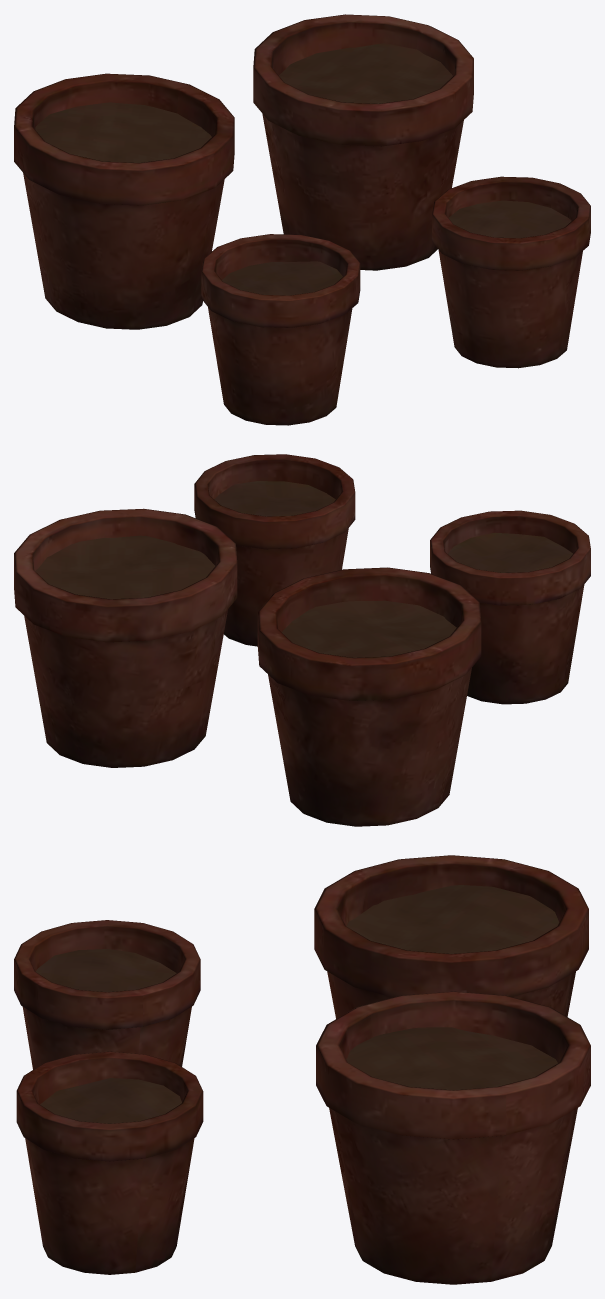
The model's file is t_macetas.glb.
3 renders of one model, top to bottom at view 1: azimuth 30°, elevation 25°; view 2: azimuth 150°, elevation 25°; view 3: azimuth 270°, elevation 25°, orthographic. The views are drawn at different scales.
Size of the model in its own units: 0.45 by 0.1736 by 0.4493.
Materials: 1 (1 with a texture image).
